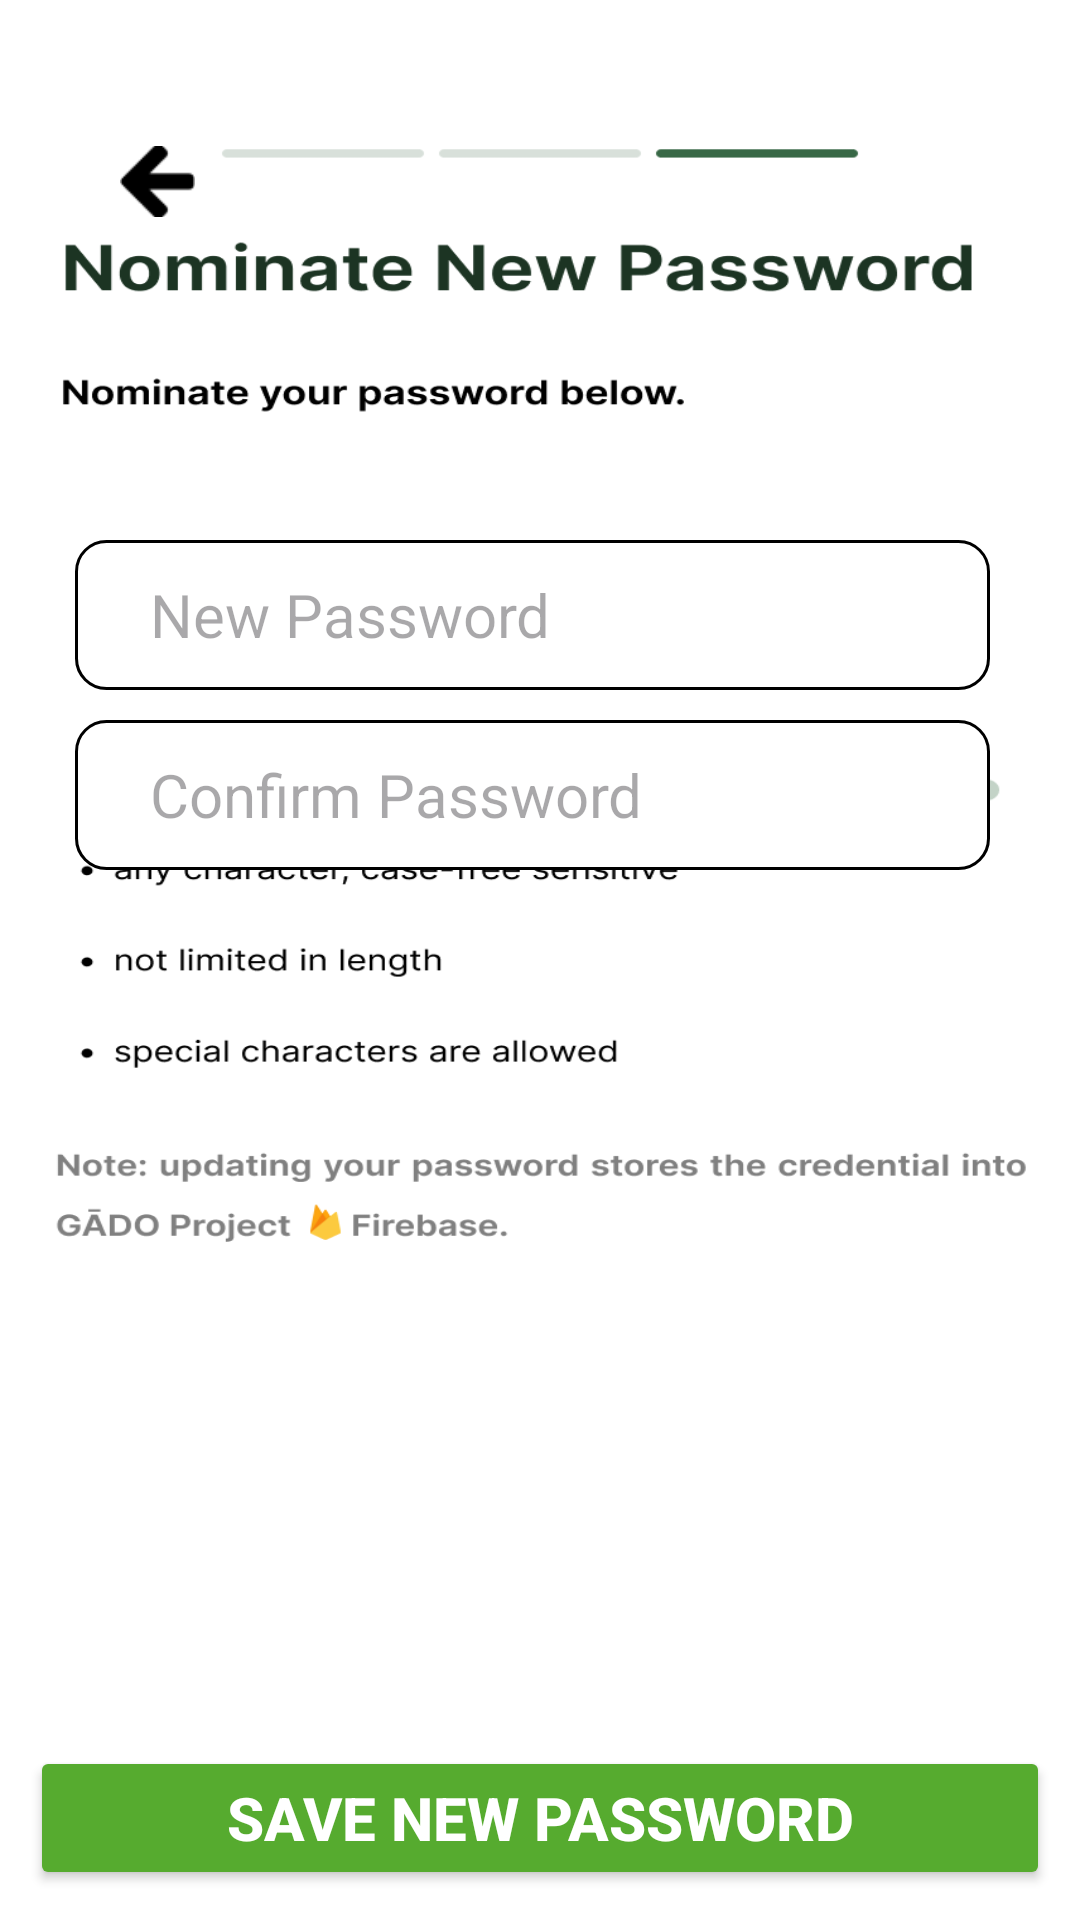

Locate icon controls on the screen. Image size 1080 × 1920, boxes as (x1, y1, x2, y2).
backbutton: (120, 146, 195, 217)
